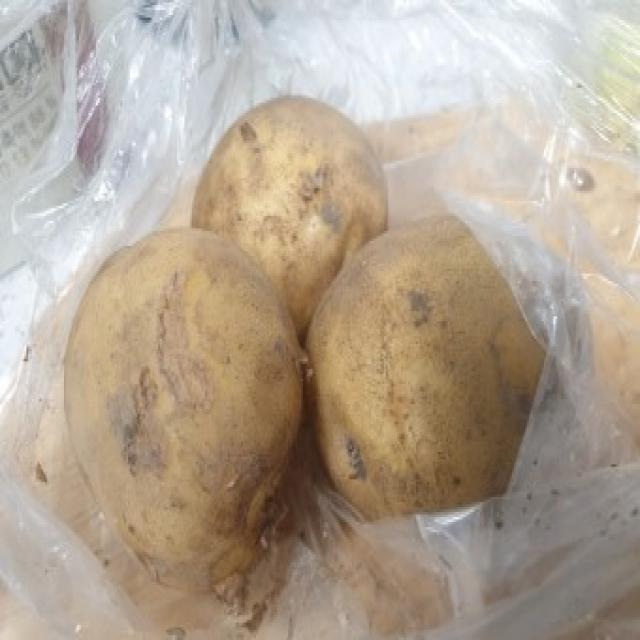potato: (310, 210, 600, 525), (56, 223, 308, 582), (190, 96, 388, 330)
